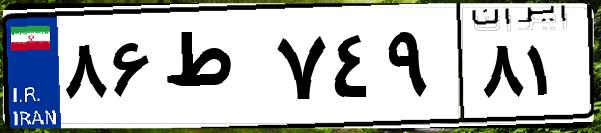1: (525, 38, 570, 115)
4: (330, 28, 385, 110)
6: (110, 28, 158, 98)
7: (270, 28, 330, 110)
8: (57, 26, 110, 100), (475, 38, 525, 113)
9: (385, 28, 445, 110)
ط: (158, 20, 270, 120)
